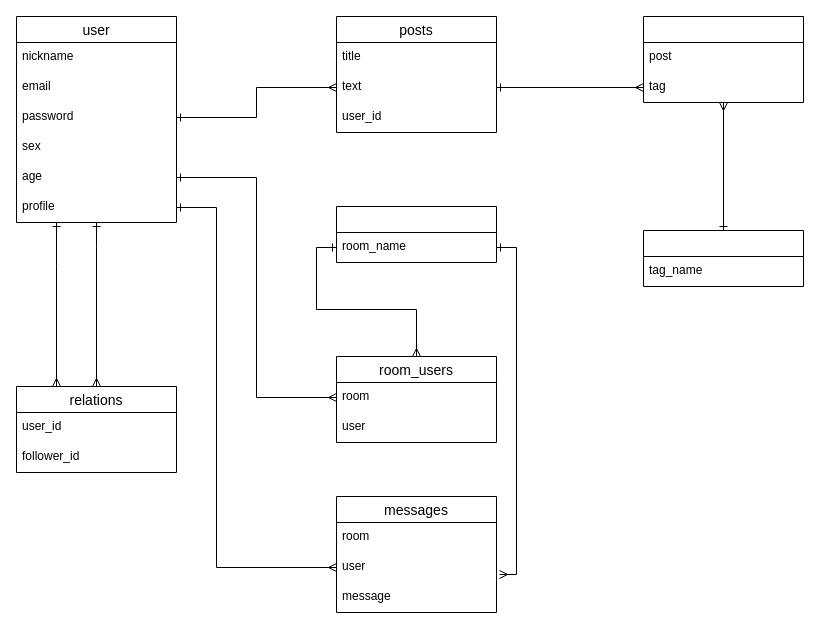
Some shapes in this 820 by 629 pixel diagram are drawn without their labels. The box of each missing label's shape, as (x1, y1, x2, y2) in pixels:
post_tag: (642, 16, 804, 102)
rooms: (336, 206, 496, 262)
tags: (642, 230, 804, 286)
